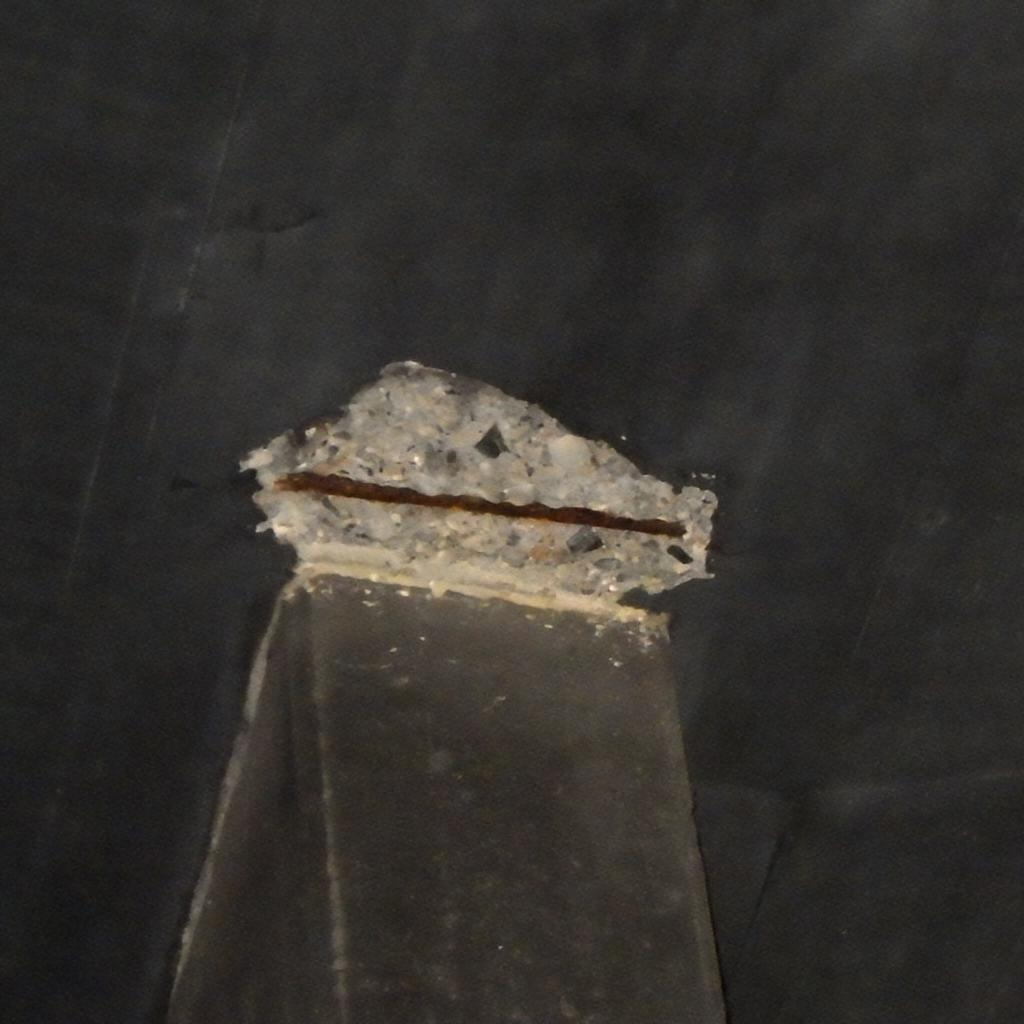exposed_rebar: (276, 470, 686, 537)
spalling: (244, 362, 716, 627)
